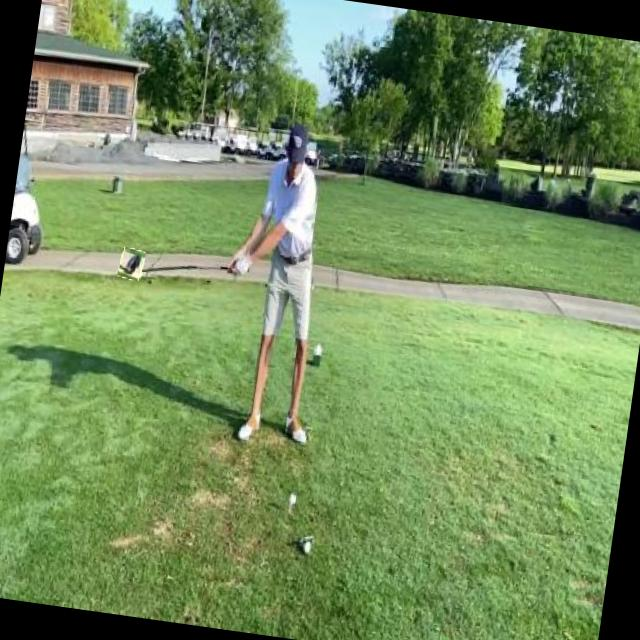club head: (118, 247, 146, 282)
